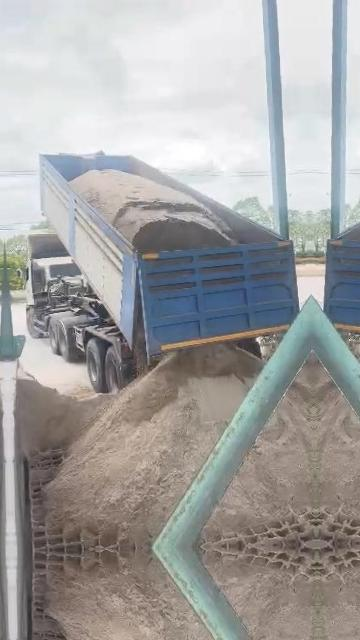sand: (23, 331, 288, 547), (204, 369, 316, 540), (70, 170, 237, 253), (135, 305, 147, 371), (68, 386, 93, 399)
